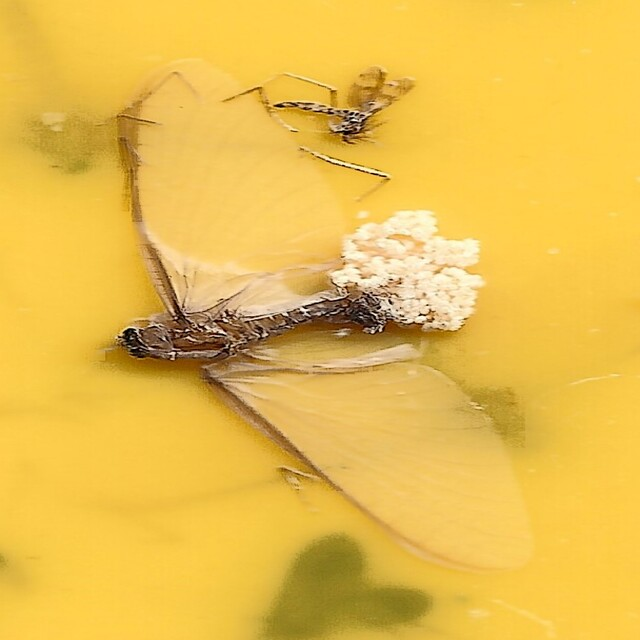Ephemeroptera: (105, 65, 535, 575)
Nematocera: (267, 66, 412, 143)
